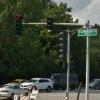Car: (17, 74, 60, 95)
